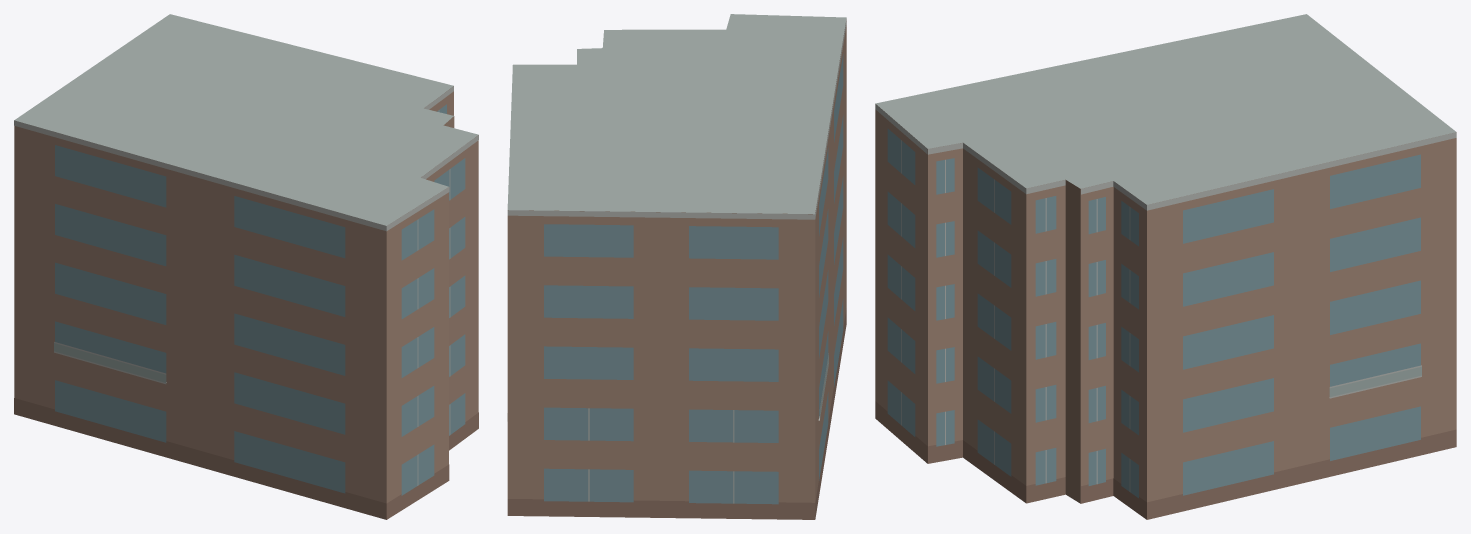
The model's file is survey-upis-32741895.glb.
The picture shows the model from 3 angles, left to right: view 1: azimuth 30°, elevation 25°; view 2: azimuth 150°, elevation 25°; view 3: azimuth 270°, elevation 25°; orthographic projection. The views are drawn at different scales.
Parts seen in each view (by area): view 1: survey-upis-32741895.tmp; view 2: survey-upis-32741895.tmp; view 3: survey-upis-32741895.tmp.
Boxes of the visible parts, x1,y1,x2,y2 form: survey-upis-32741895.tmp: (14, 14, 478, 519); survey-upis-32741895.tmp: (507, 14, 846, 519); survey-upis-32741895.tmp: (875, 14, 1456, 519).
Size of the model in its own units: 17.43 by 13.4 by 22.43.
